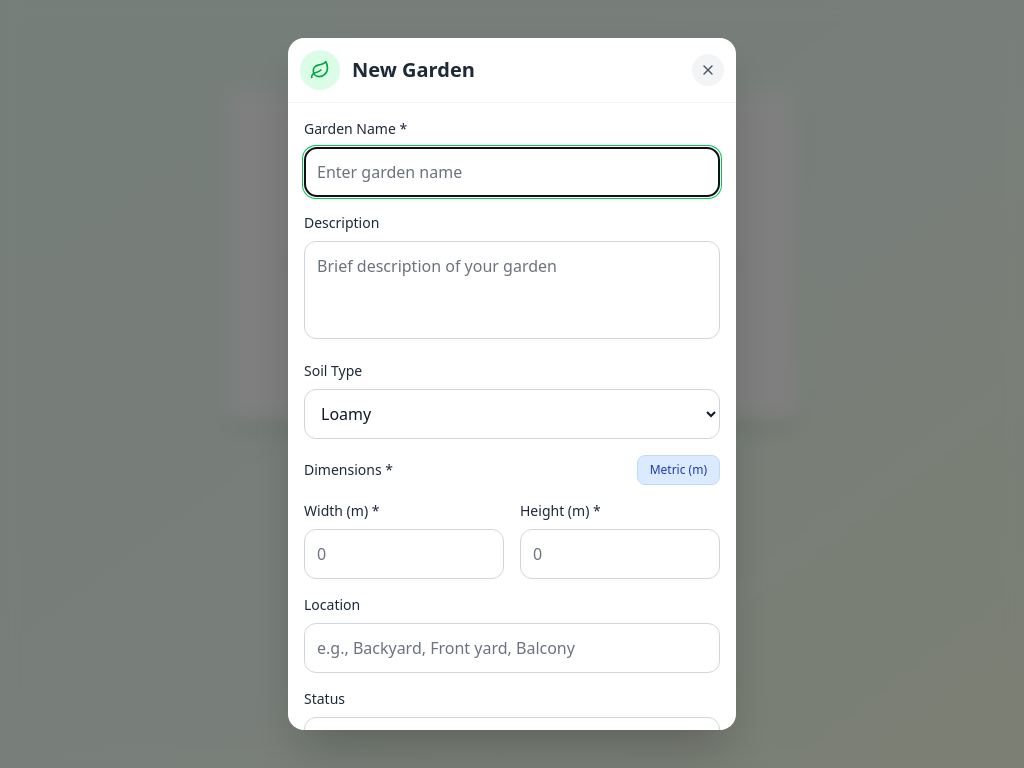
direct garden creation › ignores unsupported return destination
This screenshot has width=1024, height=768.
Expected: the dialog "New Garden" is shown, [288, 38, 736, 730]
Type "Kitchen Garden" into the field labelled "Garden Name *".
click(512, 172); type("Kitchen Garden")  # box [304, 147, 720, 197]
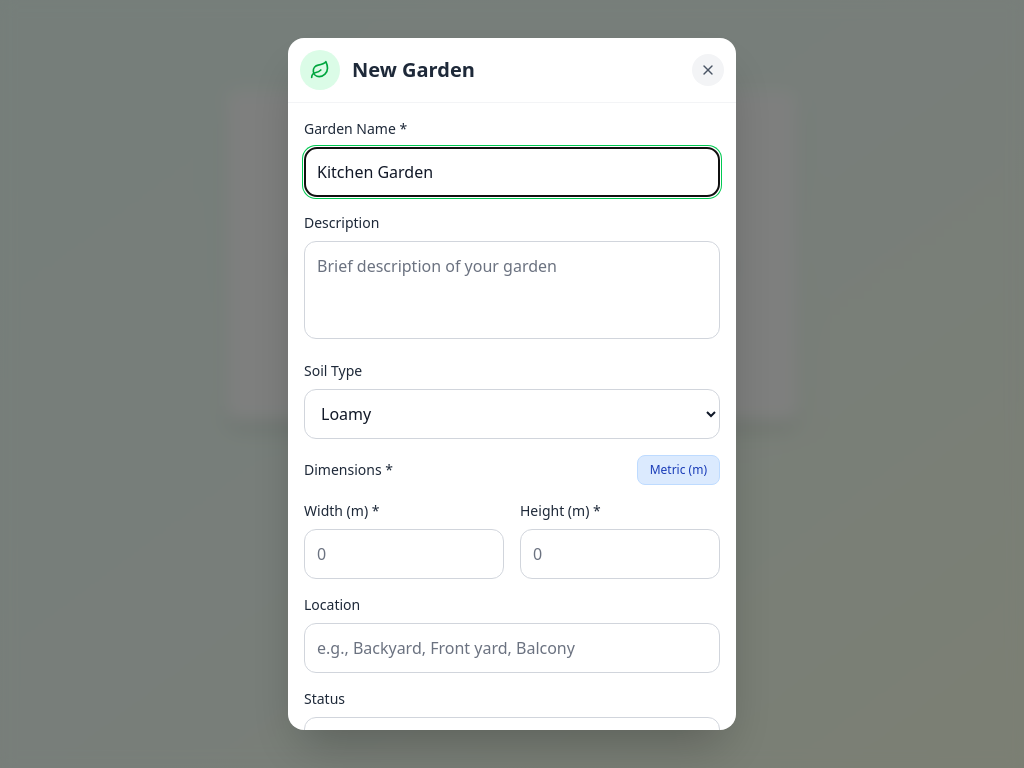
Type "12" into the number field labelled "Width (m) *".
click(404, 554); type("12")  # box [304, 529, 504, 579]
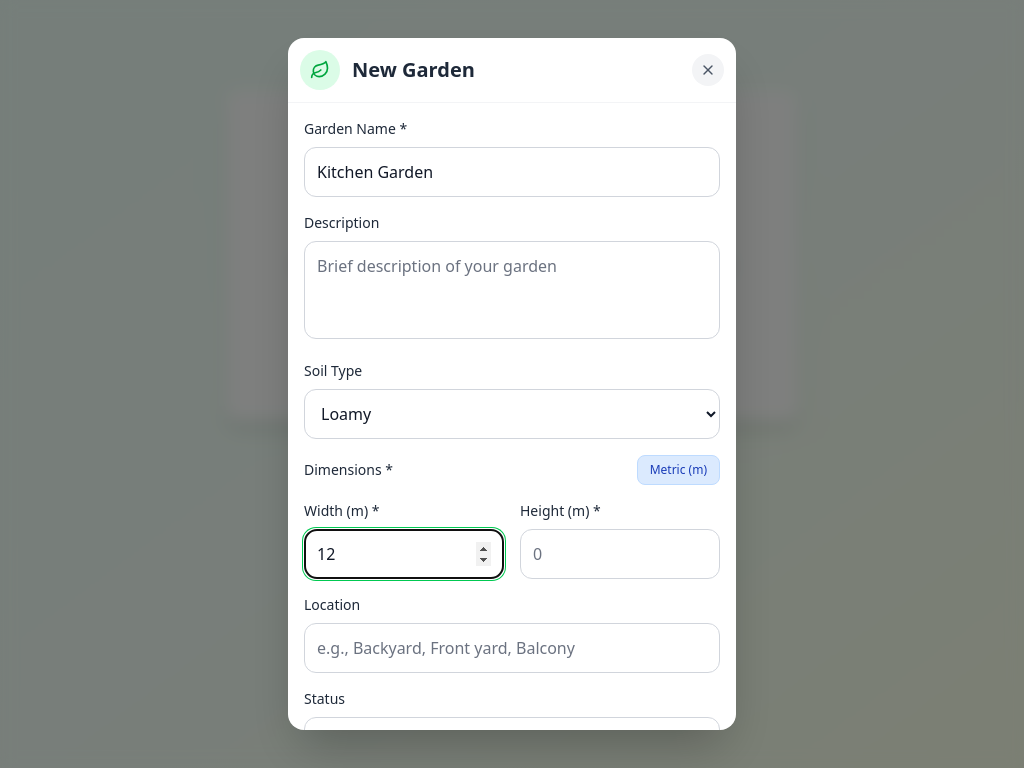
Type "8" into the number field labelled "Height (m) *".
click(620, 554); type("8")  # box [520, 529, 720, 579]
(page scrolled)
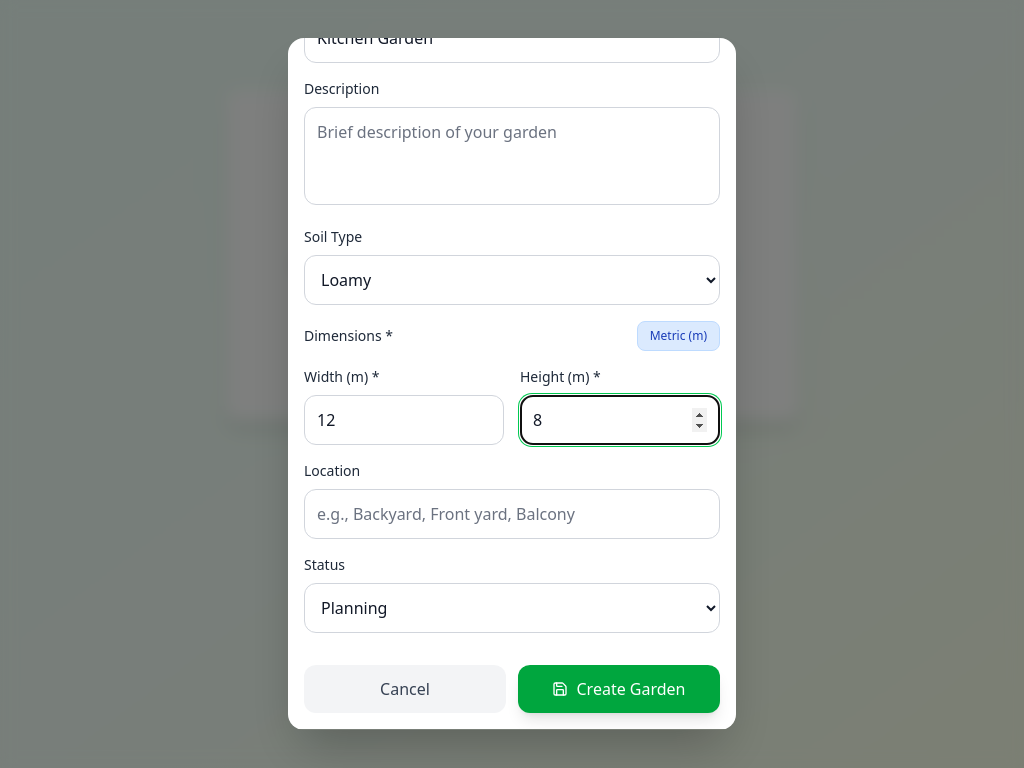
Click the button "Create Garden".
click(619, 689)  # box [518, 665, 720, 713]
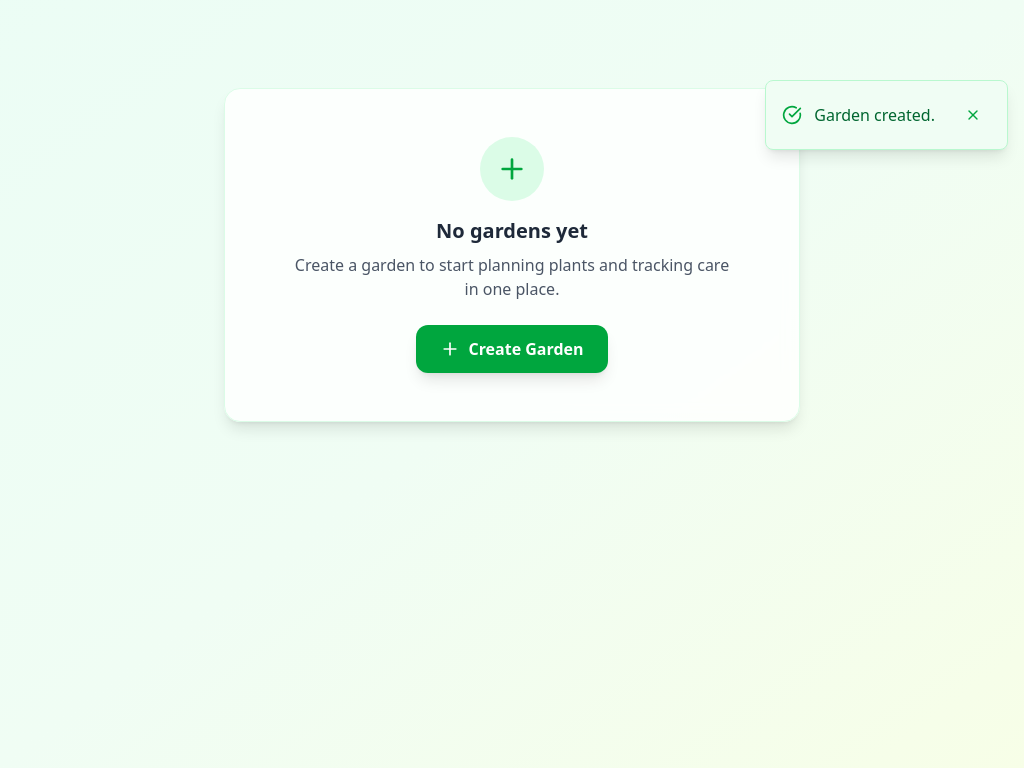
Expected: the dialog is gone
Expected: the text "Garden created." is shown, [814, 103, 935, 127]
